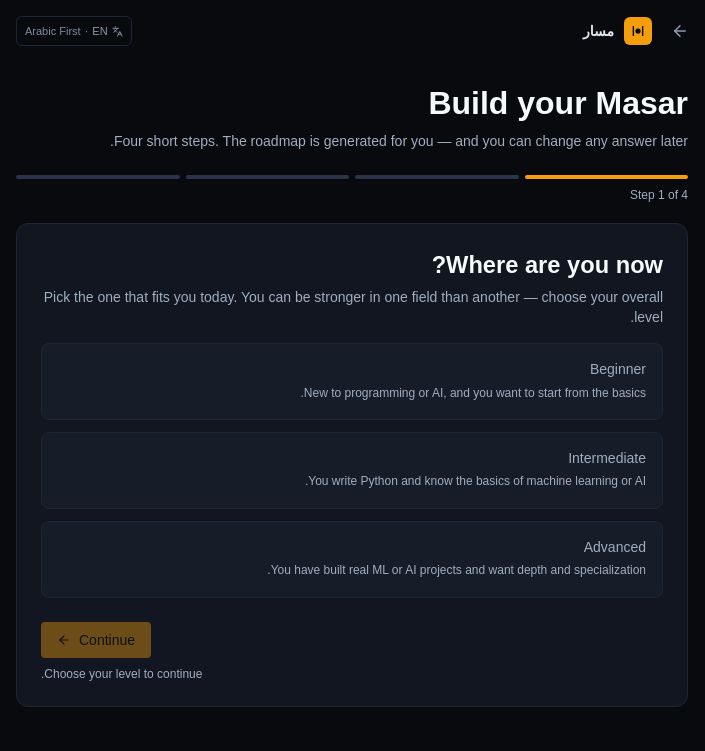
Test: the onboarding page › starts the skills step from the skills the learner already declared
The width and height of the screenshot is (705, 751).
Click the radio button labelled "Intermediate". click: (607, 458)
box: [41,432,663,509]
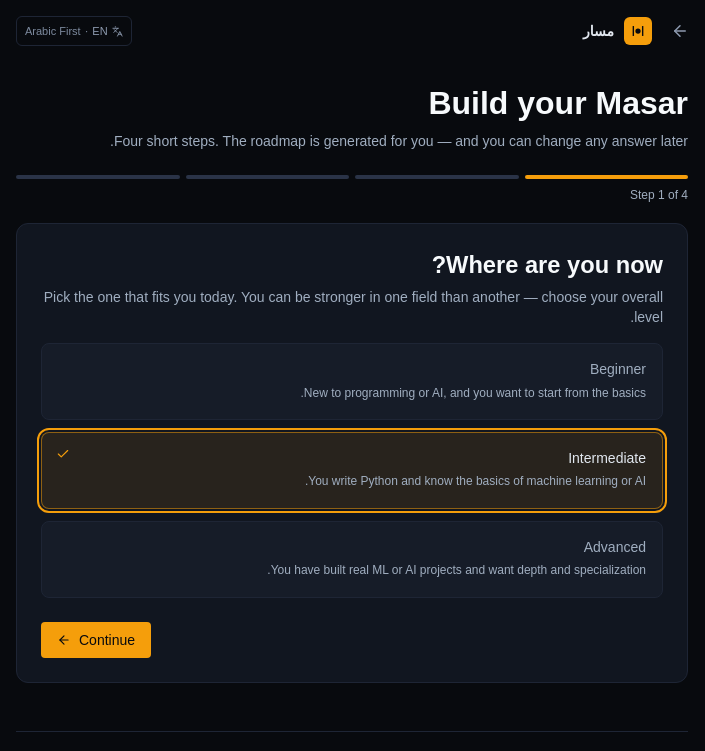
Click the button "Continue". click: (96, 640)
box: [41,622,151,658]
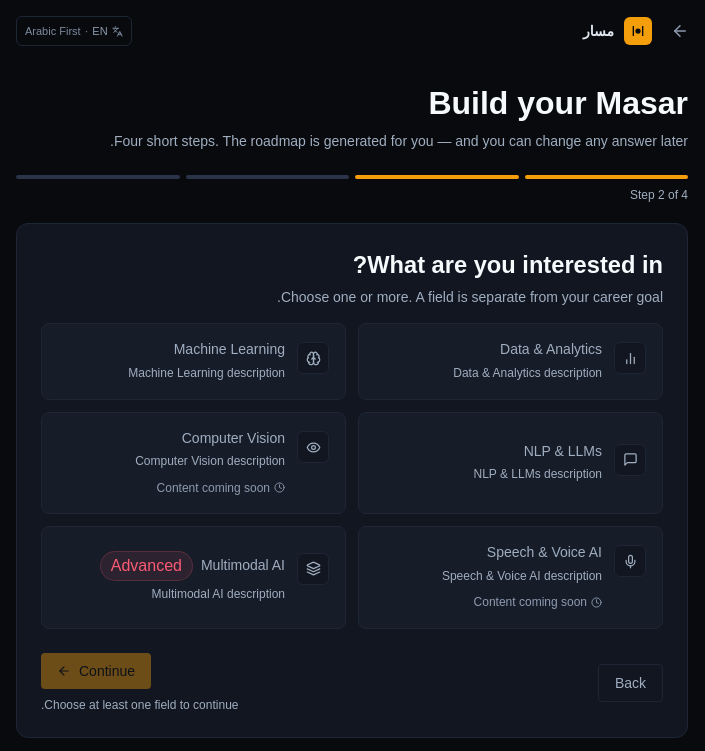
Click the checkbox labelled "NLP & LLMs NLP & LLMs description". click: (630, 460)
box: [358,412,663,514]
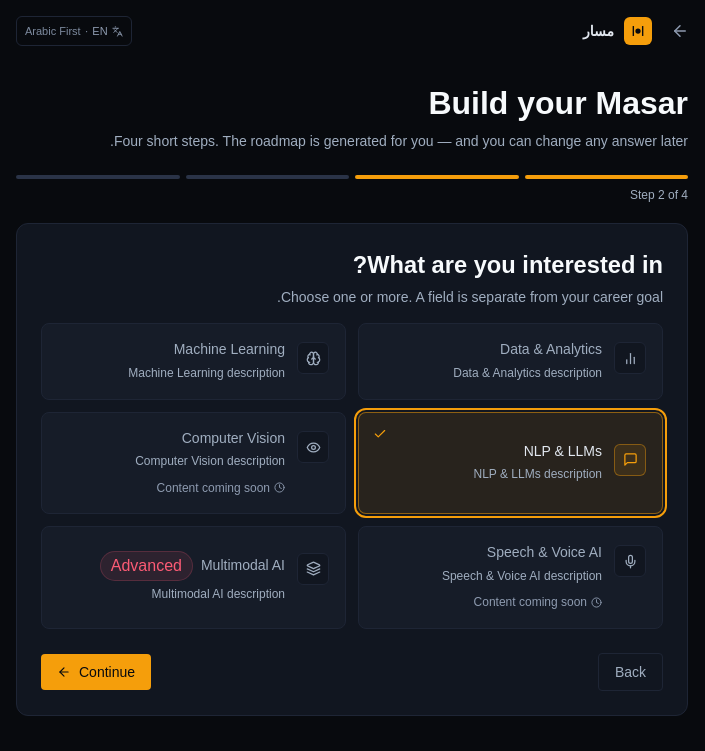
Click the button "Continue". click: (96, 672)
box: [41,654,151,690]
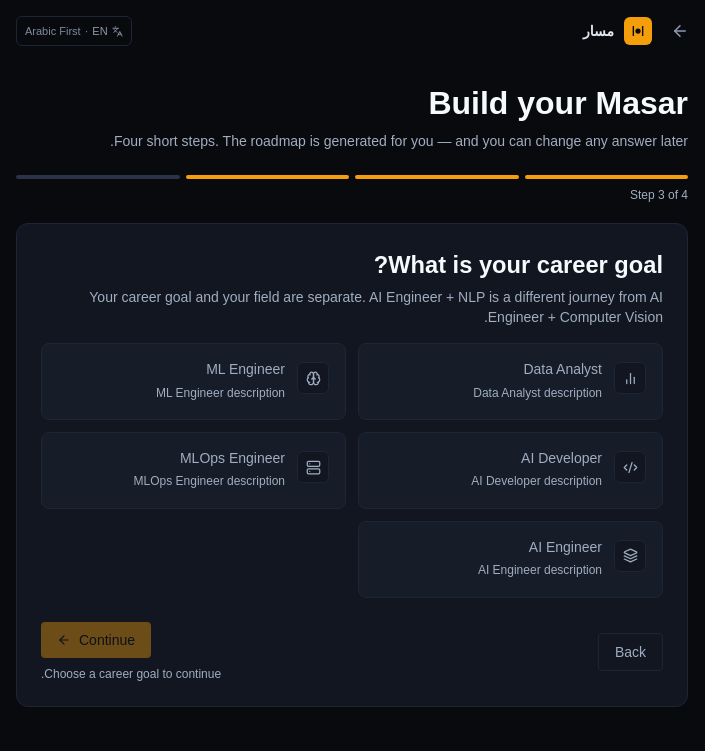
Click the radio button labelled "AI Engineer AI Engineer description". click: (630, 556)
box: [358,521,663,598]
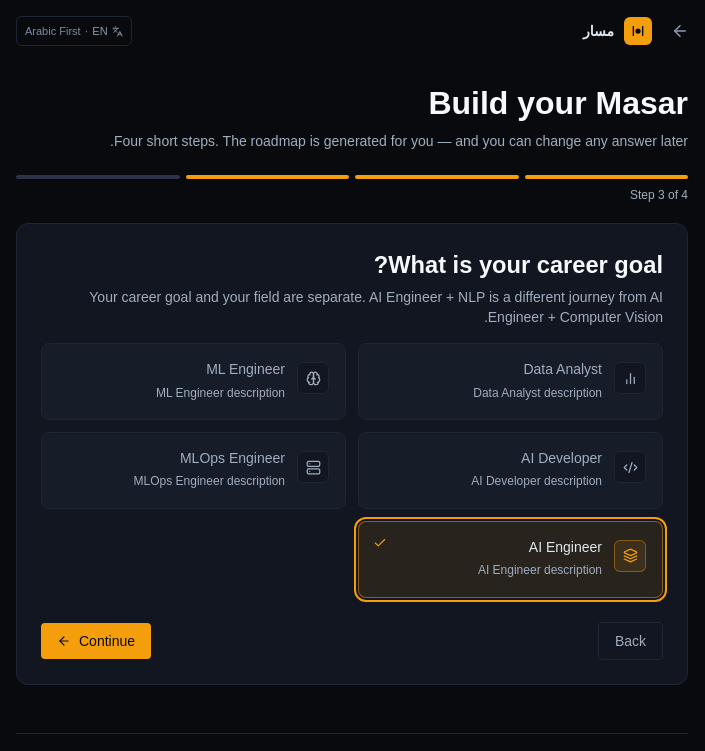
Click the button "Continue". click: (96, 641)
box: [41,623,151,659]
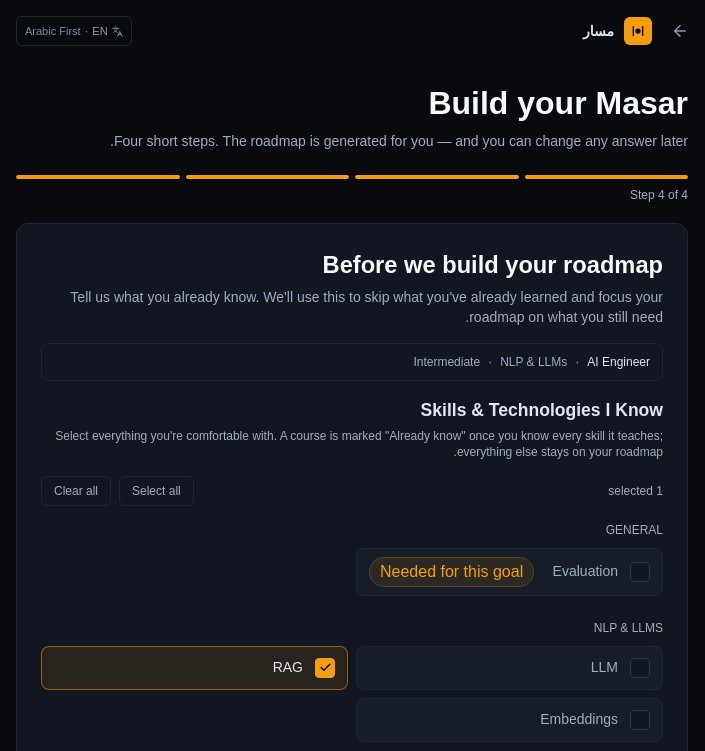
Expected: the checkbox labelled "RAG" is checked, [41,646,348,690]
